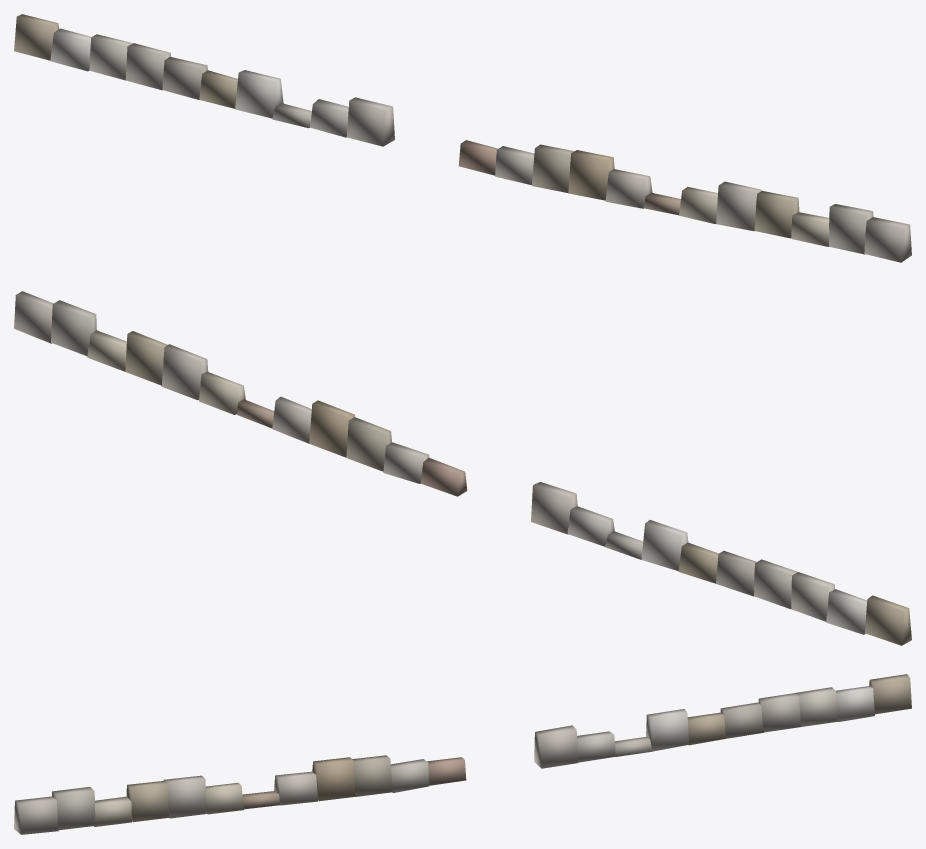
The model's file is farm_7_15_far.glb.
The picture shows the model from 3 angles, top to bottom: view 1: azimuth 30°, elevation 25°; view 2: azimuth 210°, elevation 25°; view 3: azimuth 270°, elevation 25°; orthographic projection. The views are drawn at different scales.
Parts seen in each view (by area): view 1: geometry_0; view 2: geometry_0; view 3: geometry_0.
Boxes of the visible parts, x1,y1,x2,y2 form: geometry_0: (14,14,911,262); geometry_0: (14,291,911,645); geometry_0: (14,674,911,834).
Size of the model in its own units: 16.65 by 3.42 by 34.96.
